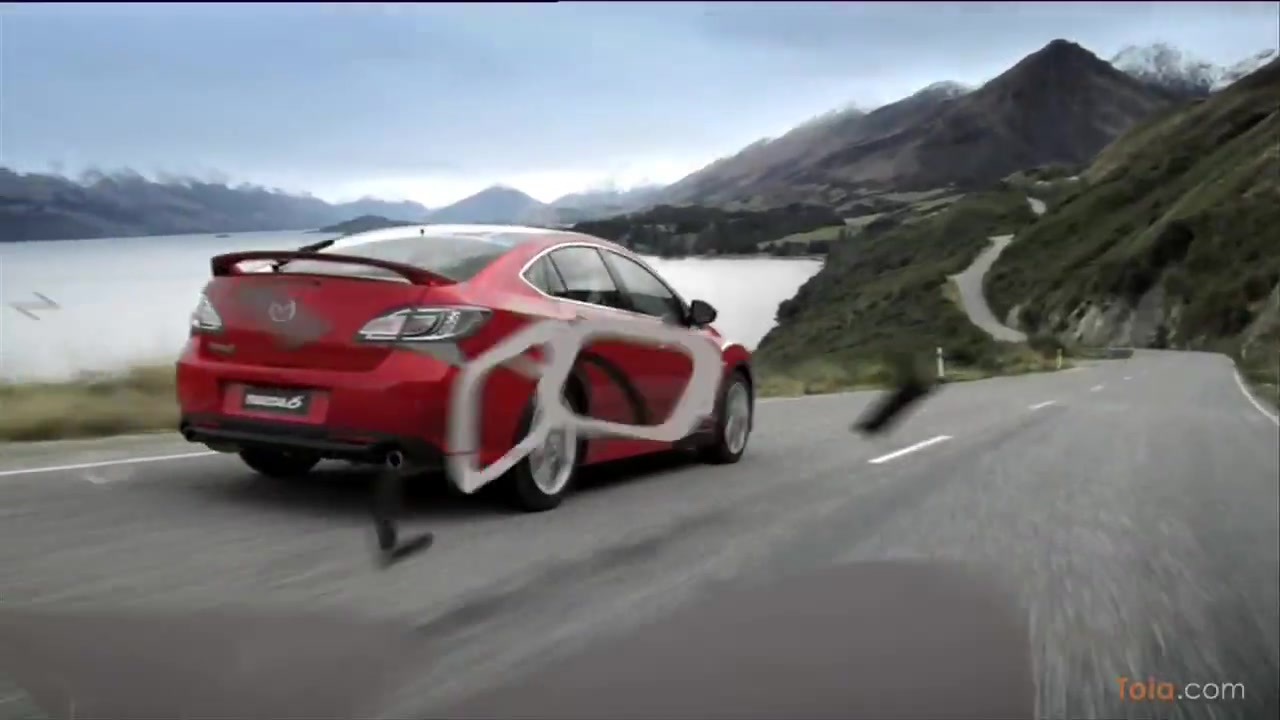car: (172, 218, 757, 515)
